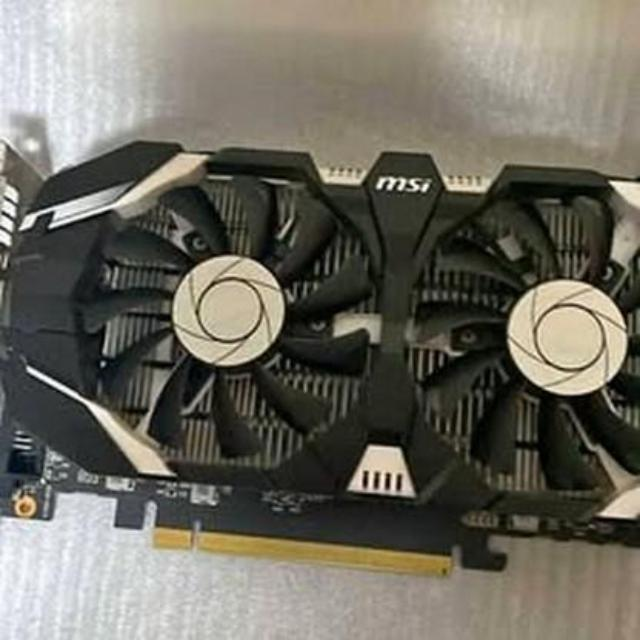GPU: (0, 128, 640, 586)
